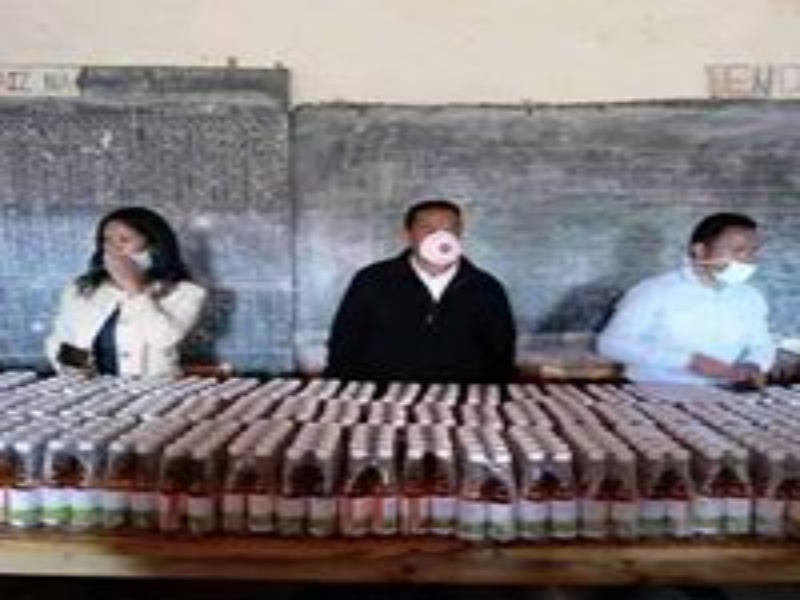ManaoArotava: (690, 207, 762, 294), (400, 192, 465, 261)
